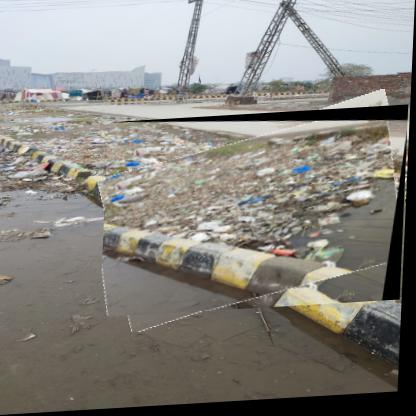Garbage: (104, 111, 411, 321)
